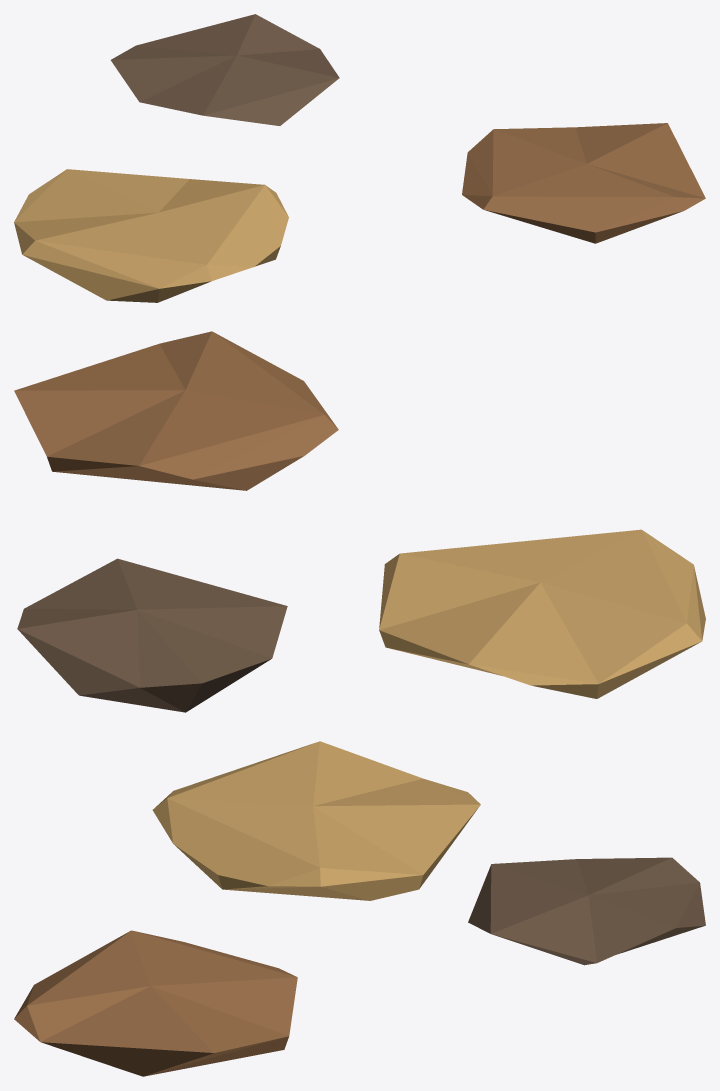
File: Flowers_01.FBX
The picture shows the model from 3 angles, top to bottom: view 1: azimuth 30°, elevation 25°; view 2: azimuth 150°, elevation 25°; view 3: azimuth 270°, elevation 25°; orthographic projection. The views are drawn at different scales.
Parts seen in each view (by area): view 1: Flowers_01; view 2: Flowers_01; view 3: Flowers_01.
Part boxes in pixels (left/top/right/bottom): Flowers_01: left=14, top=14, right=705, bottom=302; Flowers_01: left=14, top=331, right=705, bottom=712; Flowers_01: left=14, top=741, right=705, bottom=1076.
Size of the model in its own units: 7.22 by 0.6358 by 6.41.
